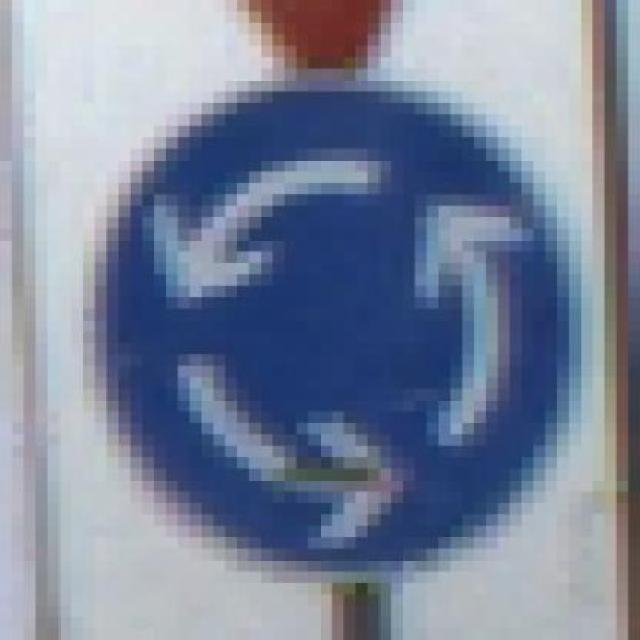Round-About: (24, 57, 628, 606)
